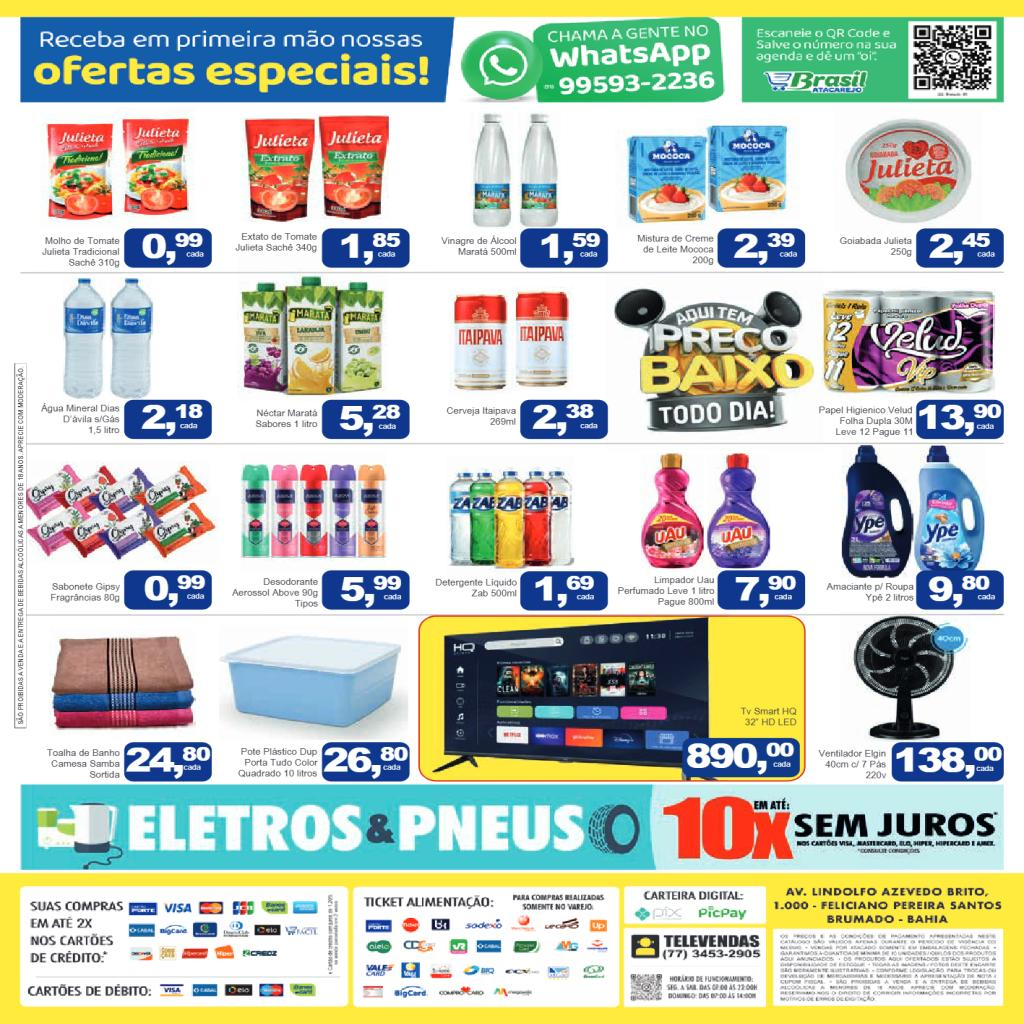price: (895, 745, 1002, 780), (686, 742, 796, 774), (324, 745, 409, 780), (126, 746, 210, 780), (918, 403, 1002, 436), (926, 574, 998, 608), (928, 231, 997, 266), (532, 403, 602, 437), (141, 231, 206, 266), (734, 231, 800, 265), (139, 403, 205, 437), (338, 574, 404, 608), (339, 231, 403, 266), (534, 574, 598, 609), (340, 402, 402, 438), (143, 573, 206, 608), (733, 575, 796, 609), (539, 232, 601, 266)
product_text: (615, 573, 716, 610), (817, 405, 914, 438), (236, 744, 320, 781), (38, 232, 121, 269), (230, 575, 320, 609), (44, 746, 122, 782), (39, 402, 121, 436), (635, 233, 715, 266), (816, 747, 887, 780), (823, 580, 914, 604), (233, 231, 319, 254), (433, 576, 518, 599), (438, 235, 518, 258), (838, 234, 913, 258), (48, 581, 121, 605), (444, 404, 516, 427), (253, 406, 319, 430), (737, 705, 800, 727)
